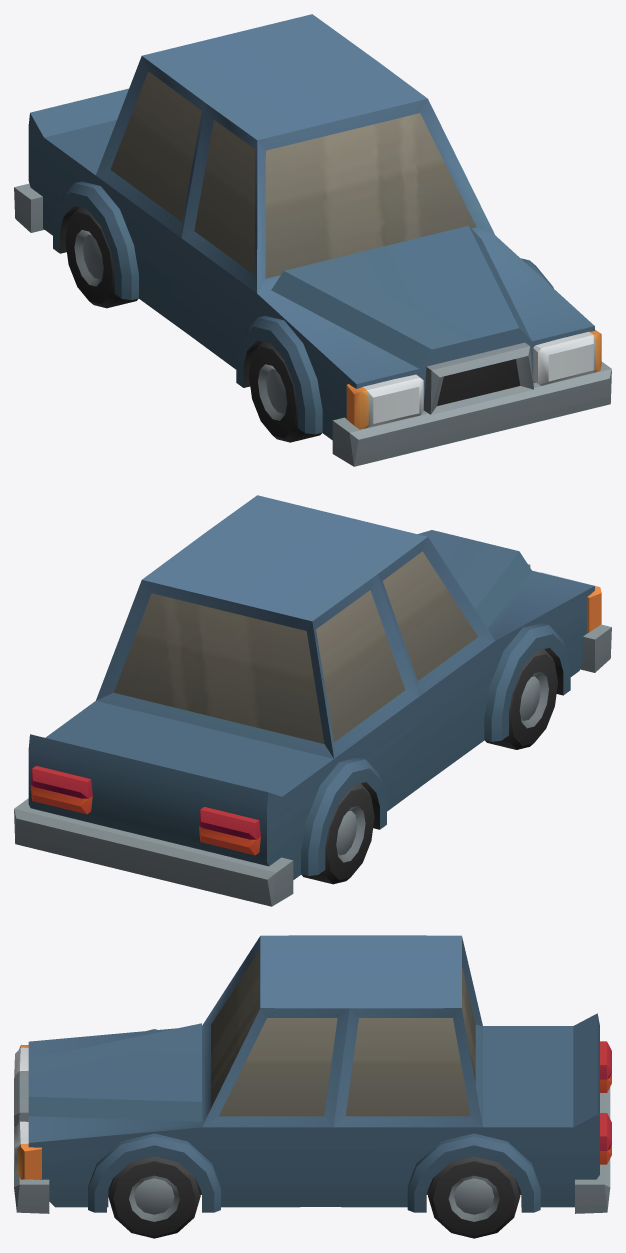
File: car_sedan.glb
3 renders of one model, top to bottom at view 1: azimuth 30°, elevation 25°; view 2: azimuth 150°, elevation 25°; view 3: azimuth 270°, elevation 25°, orthographic. The views are drawn at different scales.
Visible parts, largest first — view 1: car_sedan; view 2: car_sedan; view 3: car_sedan.
Part boxes in pixels (x1,y1,x2,y2): car_sedan: [14, 14, 611, 466]; car_sedan: [14, 495, 611, 906]; car_sedan: [14, 935, 611, 1238].
Size of the model in its own units: 0.4189 by 0.3688 by 0.9381.
1 material, 1 textured.
